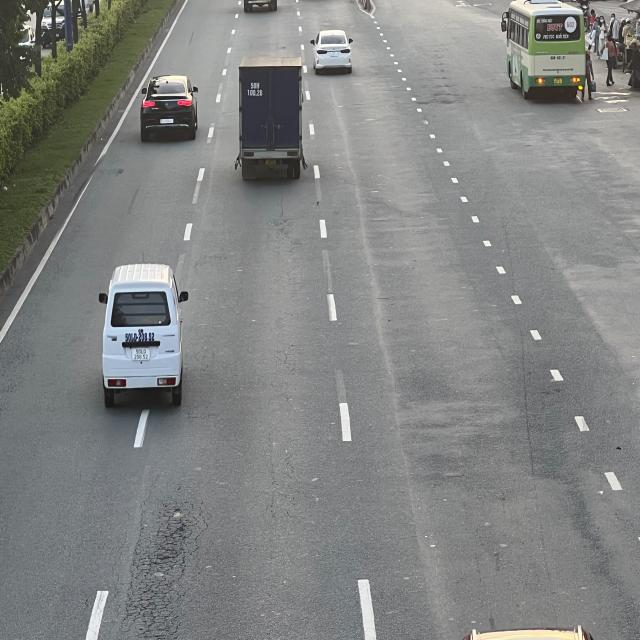car: (143, 75, 203, 140), (312, 31, 356, 77)
coach: (505, 0, 588, 95)
truck: (239, 55, 306, 178)
van: (100, 267, 188, 406)
